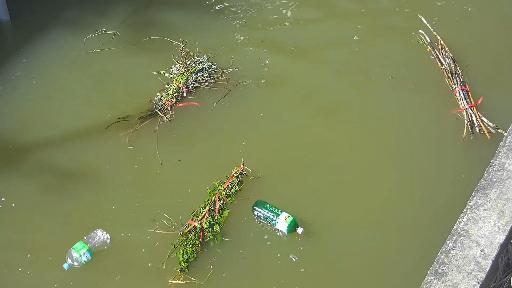plastic: (253, 196, 301, 239), (58, 224, 108, 265)
twig: (99, 8, 235, 158), (405, 12, 499, 157), (146, 147, 253, 274)
